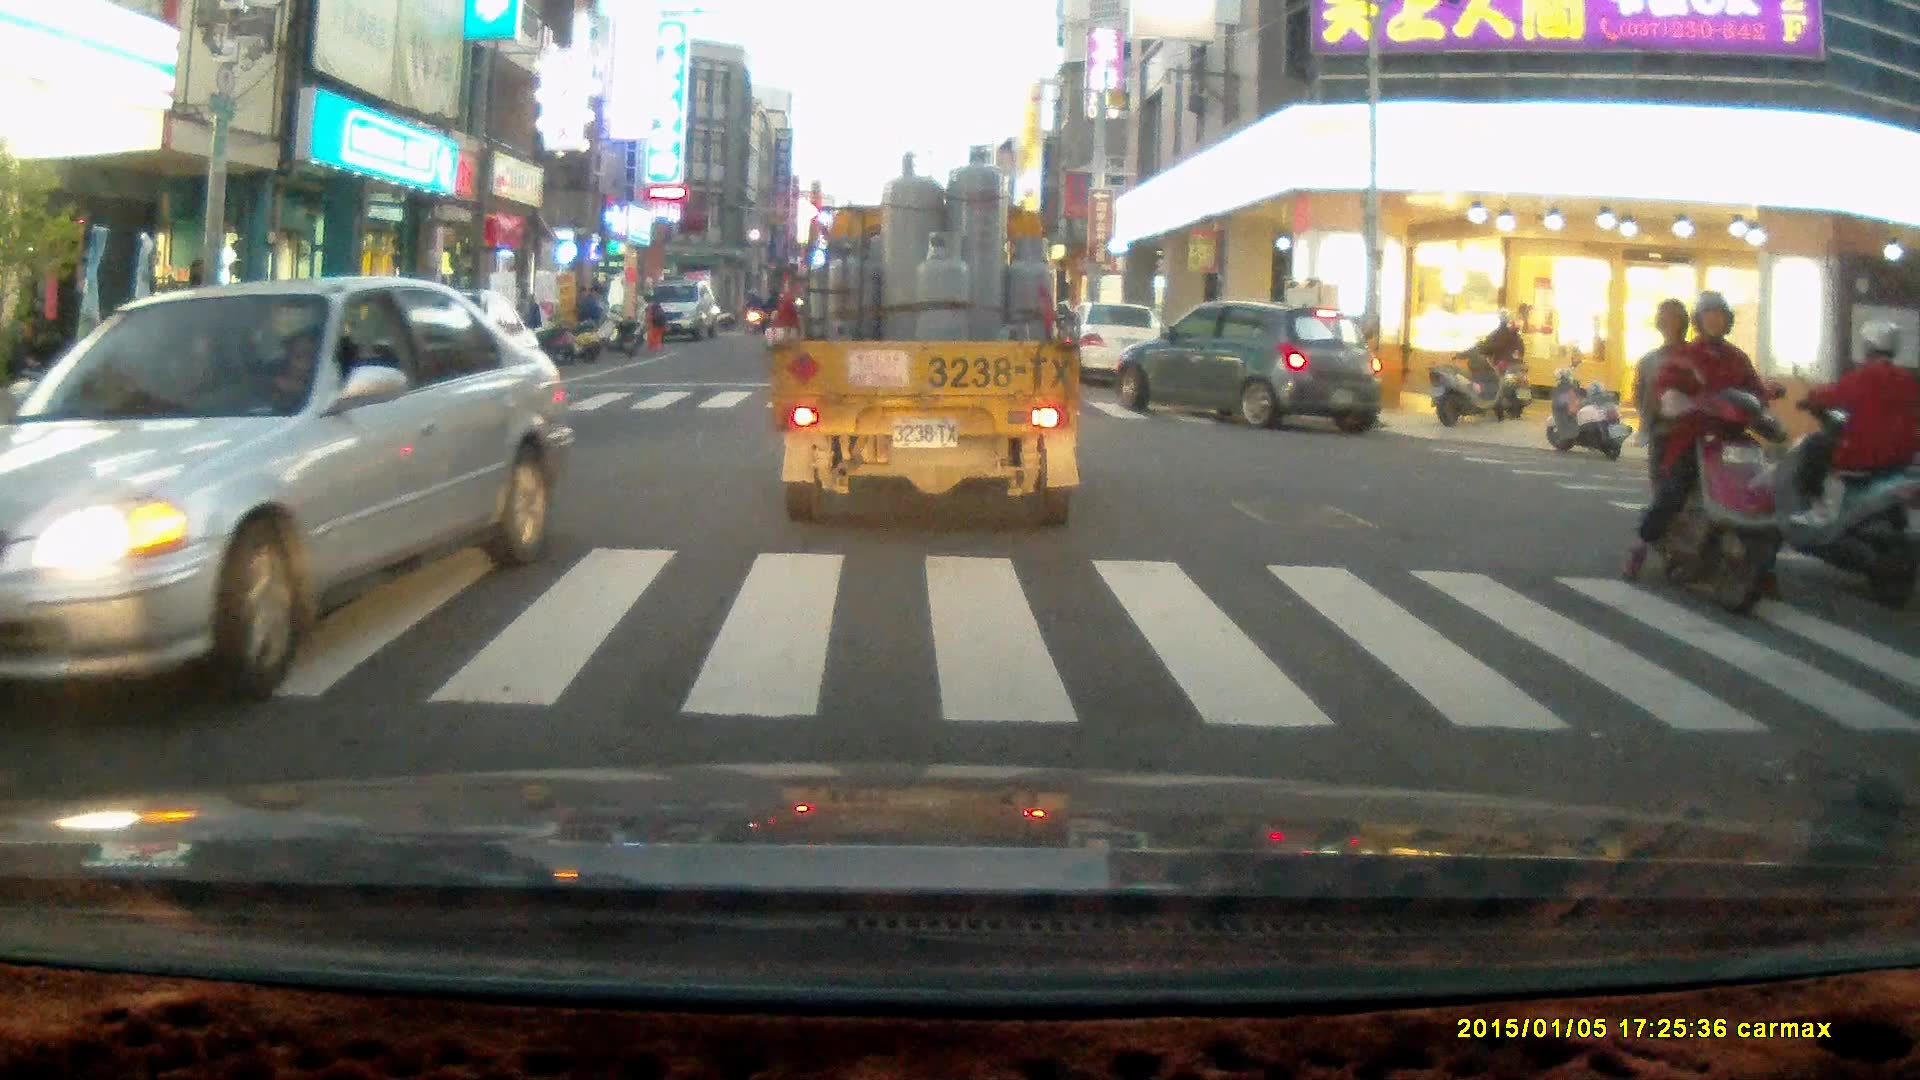pedestrian: (574, 283, 602, 348), (637, 292, 663, 352)
rider: (1617, 291, 1788, 621), (1749, 316, 1918, 607), (1472, 306, 1535, 423)
vehicle: (1, 277, 573, 724), (774, 145, 1083, 531), (1117, 302, 1385, 433), (1055, 303, 1178, 389), (636, 279, 714, 342)
